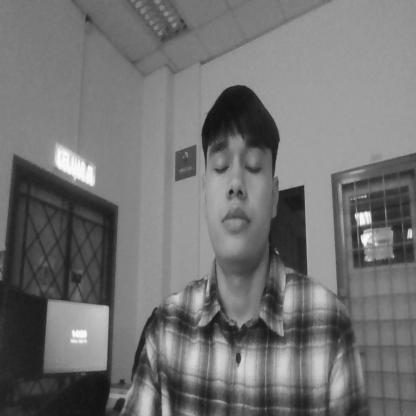Closed-Eyes: (206, 136, 268, 180)
